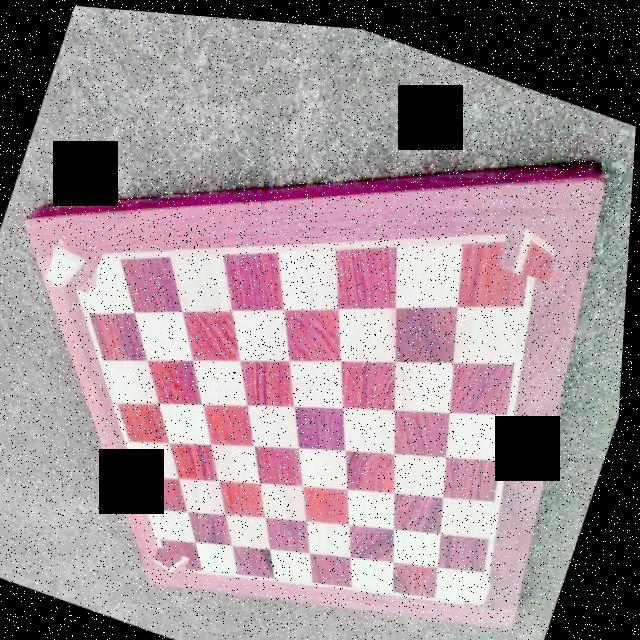chess-table-corners: (498, 205, 567, 275), (45, 232, 108, 295), (468, 567, 516, 616), (156, 544, 196, 582)
